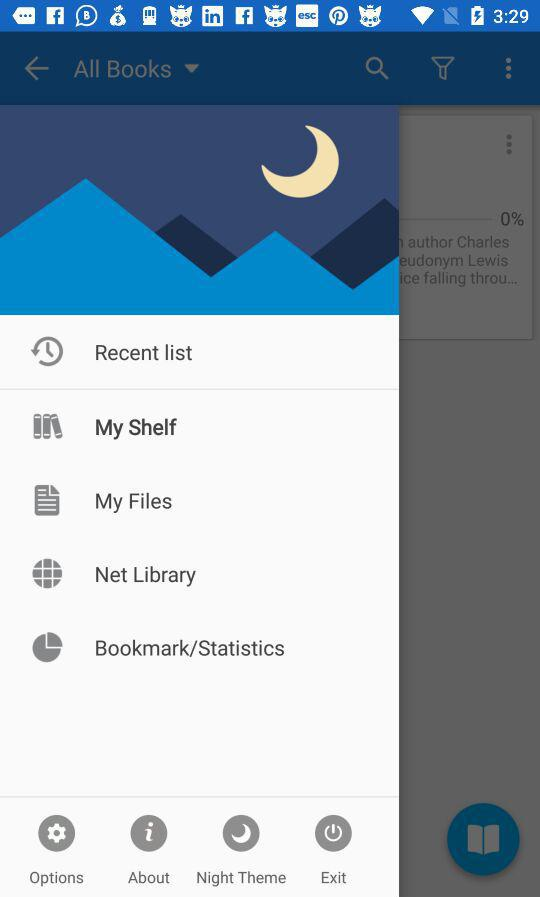Drawer: (1, 105, 400, 897)
Icon: (38, 814, 77, 853), (131, 814, 169, 853), (31, 336, 65, 367), (34, 484, 62, 517), (24, 56, 50, 83), (365, 57, 391, 83), (184, 63, 202, 75), (505, 57, 513, 82)
Image: (1, 105, 400, 316), (314, 814, 353, 853), (223, 814, 261, 853), (32, 632, 64, 664), (32, 558, 64, 590), (33, 413, 65, 441), (430, 57, 456, 82)
Text: (96, 639, 286, 658), (73, 57, 173, 81), (95, 565, 198, 588), (94, 342, 194, 363), (95, 418, 179, 441), (95, 492, 173, 514), (196, 870, 287, 888), (30, 871, 85, 887), (128, 870, 171, 884), (322, 871, 348, 884)
Toolbar: (1, 33, 540, 105)
UpperTaskBar: (1, 1, 540, 33)
